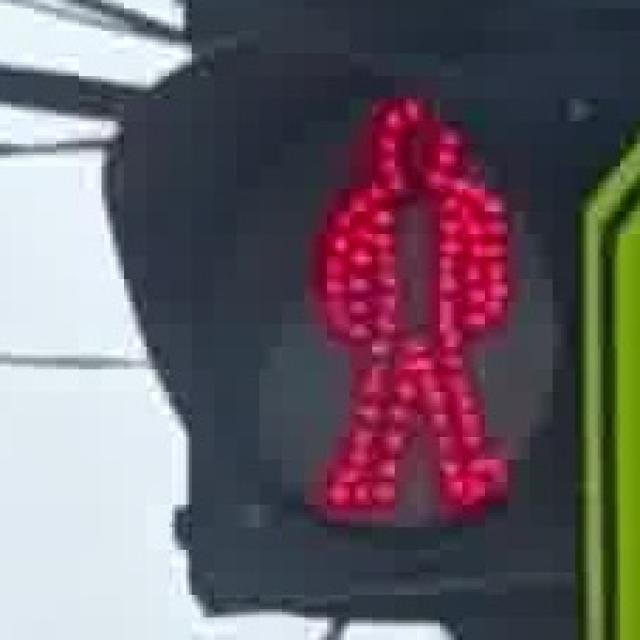red-crossing: (302, 65, 518, 533)
